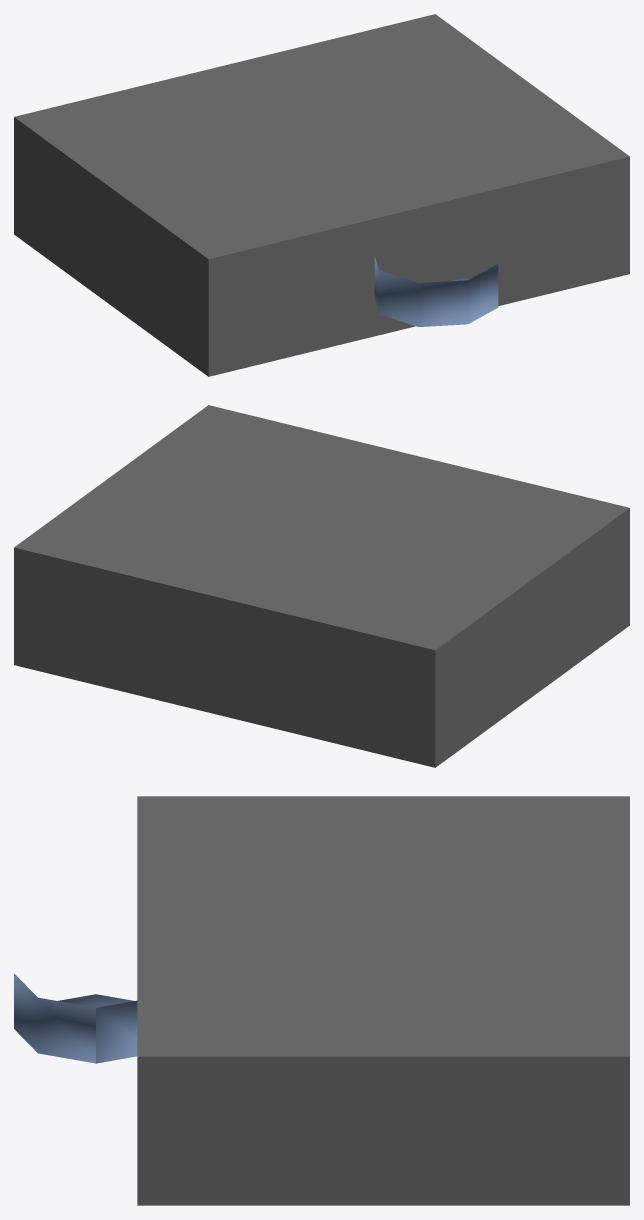
The model's file is projector.glb.
3 views of the same model, one above another, from view 1: azimuth 30°, elevation 25°; view 2: azimuth 150°, elevation 25°; view 3: azimuth 270°, elevation 25° (orthographic). The views are drawn at different scales.
Visible parts, largest first — view 1: body, lens; view 2: body; view 3: body, lens.
Boxes of the visible parts, x1,y1,x2,y2 form: body: (14,14,629,376); lens: (374,256,498,326); body: (14,405,629,767); body: (137,796,629,1205); lens: (14,973,137,1063).
Size of the model in its own units: 0.3 by 0.1 by 0.3.
